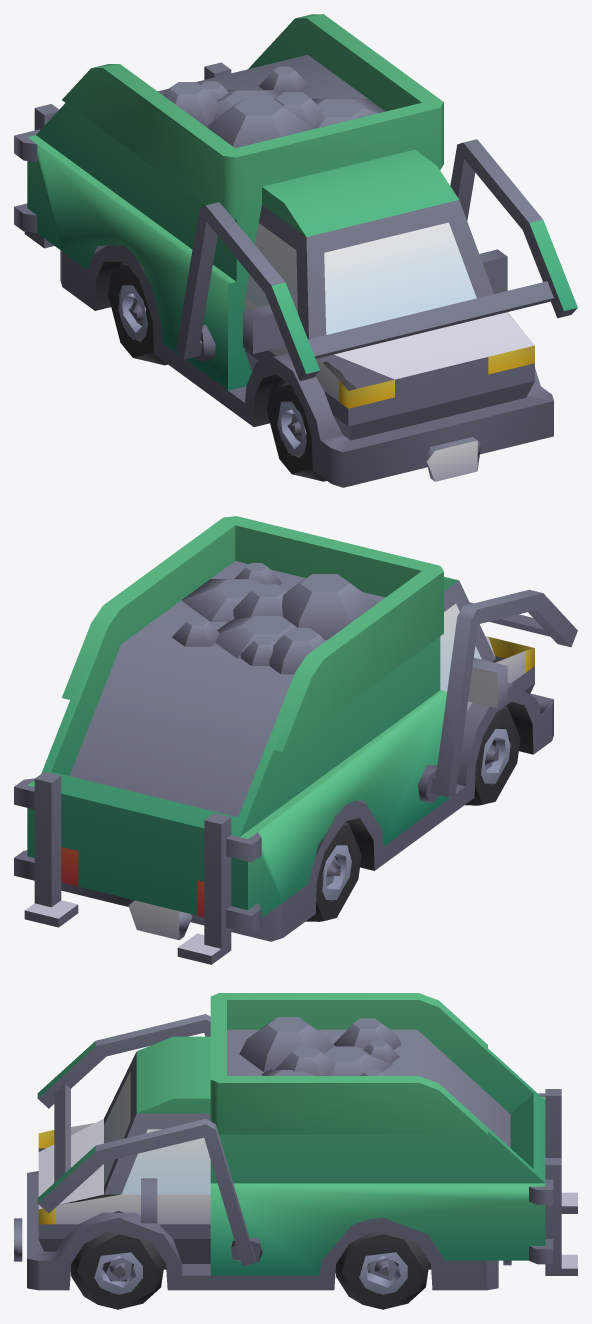
The model's file is garbage-truck.glb.
3 renders of one model, top to bottom at view 1: azimuth 30°, elevation 25°; view 2: azimuth 150°, elevation 25°; view 3: azimuth 270°, elevation 25°, orthographic. The views are drawn at different scales.
Visible parts, largest first — view 1: arm; view 2: arm; view 3: arm.
Part boxes in pixels (box(x1,y1,x2,y2)): arm: box(14, 14, 577, 487); arm: box(14, 516, 577, 964); arm: box(14, 993, 577, 1309).
Size of the model in its own units: 2.4 by 2.4 by 5.17.
Materials: 1 (1 with a texture image).
